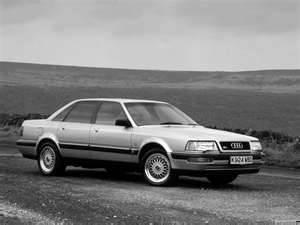car: (19, 98, 266, 187)
